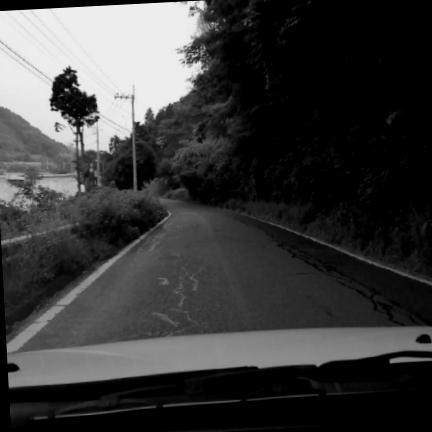Road: (20, 201, 431, 350)
